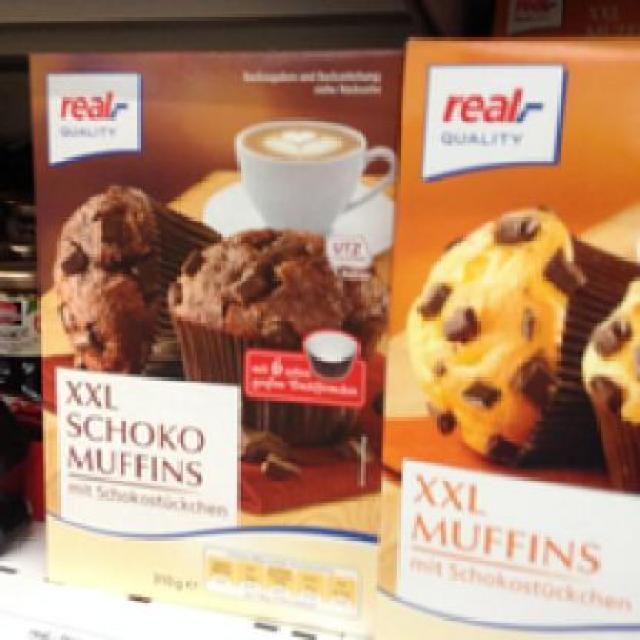Cake: (23, 46, 400, 614), (380, 31, 637, 620)
